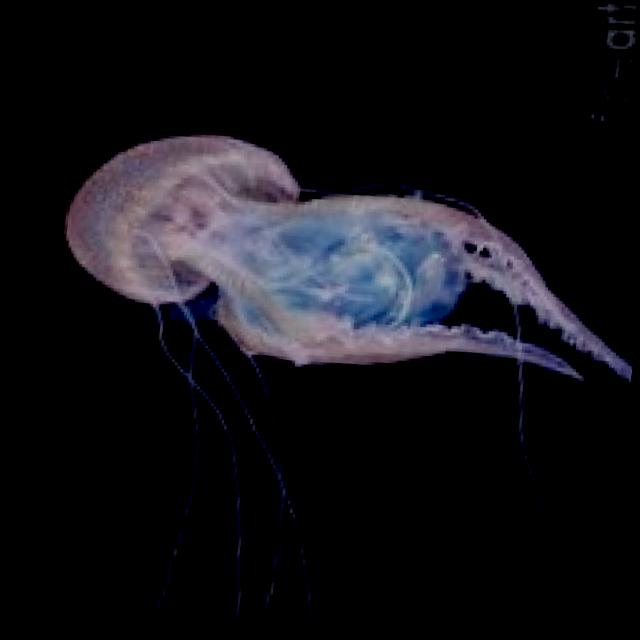Box-jellyfish: (10, 93, 640, 640)
